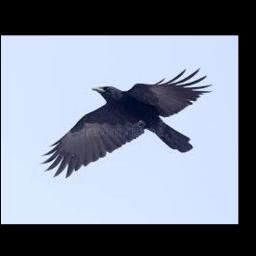Crow: (43, 68, 213, 176)
